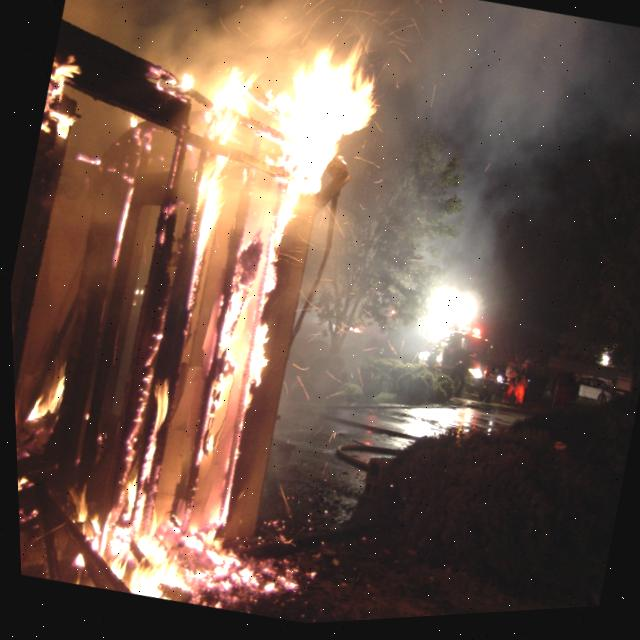fire: (8, 20, 371, 609)
smoke: (62, 0, 640, 523)
